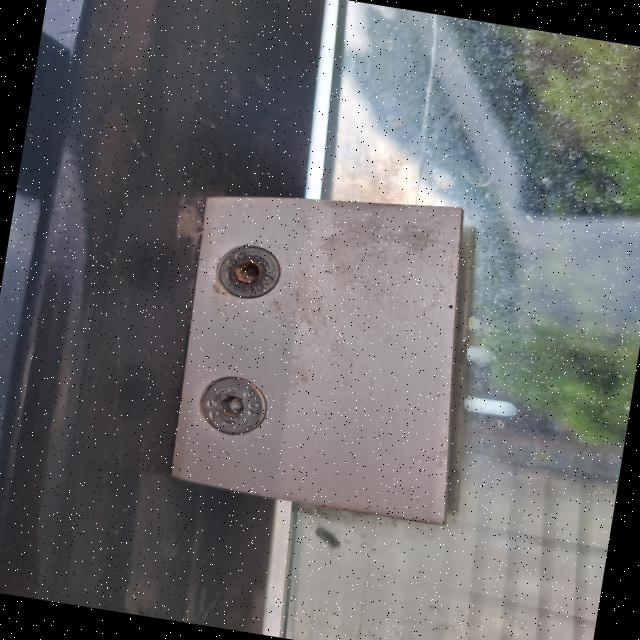Hex Socket Allen: (183, 370, 275, 440), (208, 242, 290, 302)
